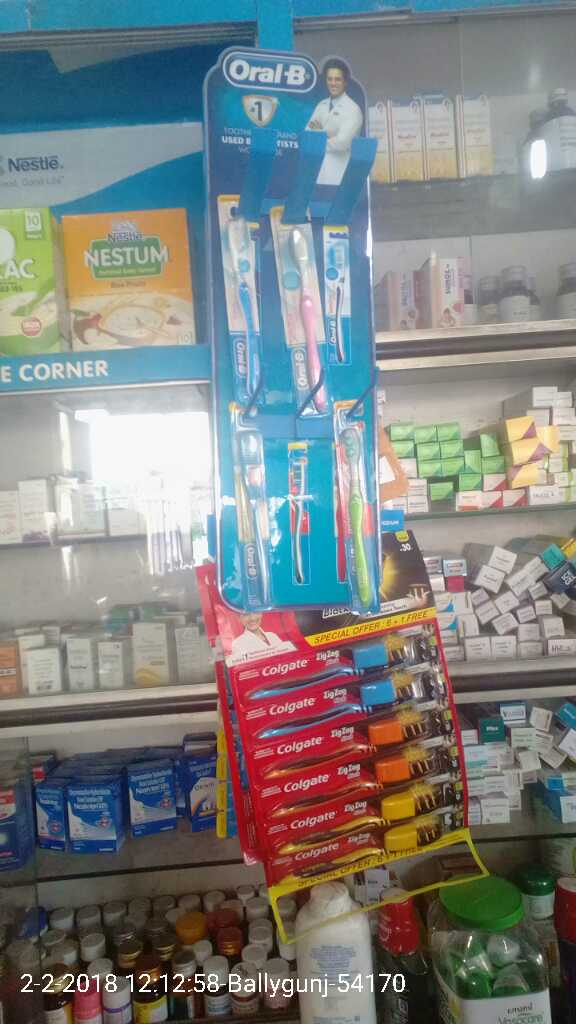oralb: (275, 217, 325, 405), (338, 439, 394, 604), (222, 211, 262, 401), (235, 436, 266, 614)
